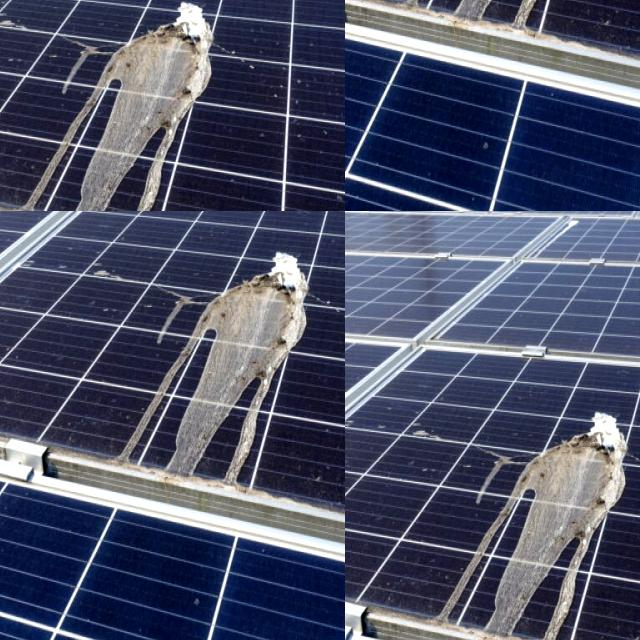bird: (489, 382, 628, 632)
dust: (26, 254, 76, 360), (143, 262, 195, 360), (86, 258, 130, 360), (0, 211, 42, 291), (123, 211, 191, 255), (0, 213, 26, 316), (0, 301, 46, 359), (88, 211, 194, 234), (0, 211, 76, 237), (0, 211, 89, 231), (0, 211, 45, 240), (109, 211, 194, 226), (0, 211, 52, 234), (86, 211, 194, 221)
